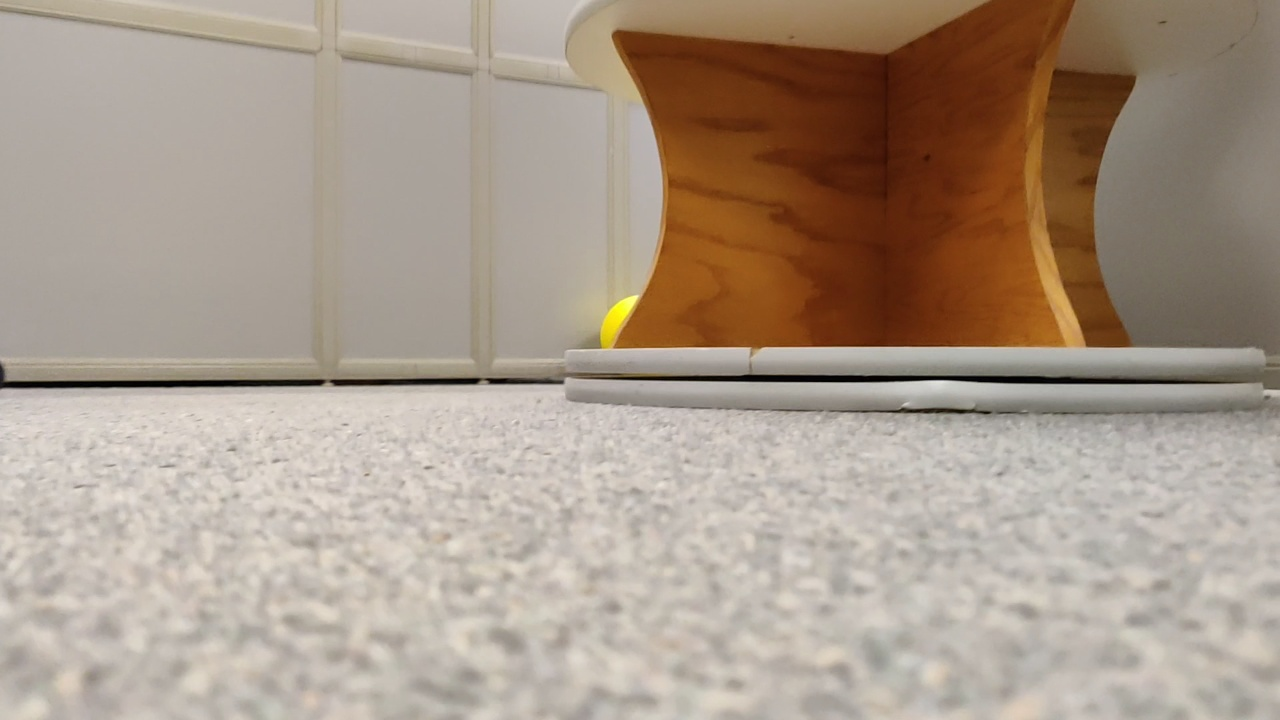Ball: (597, 294, 647, 349)
